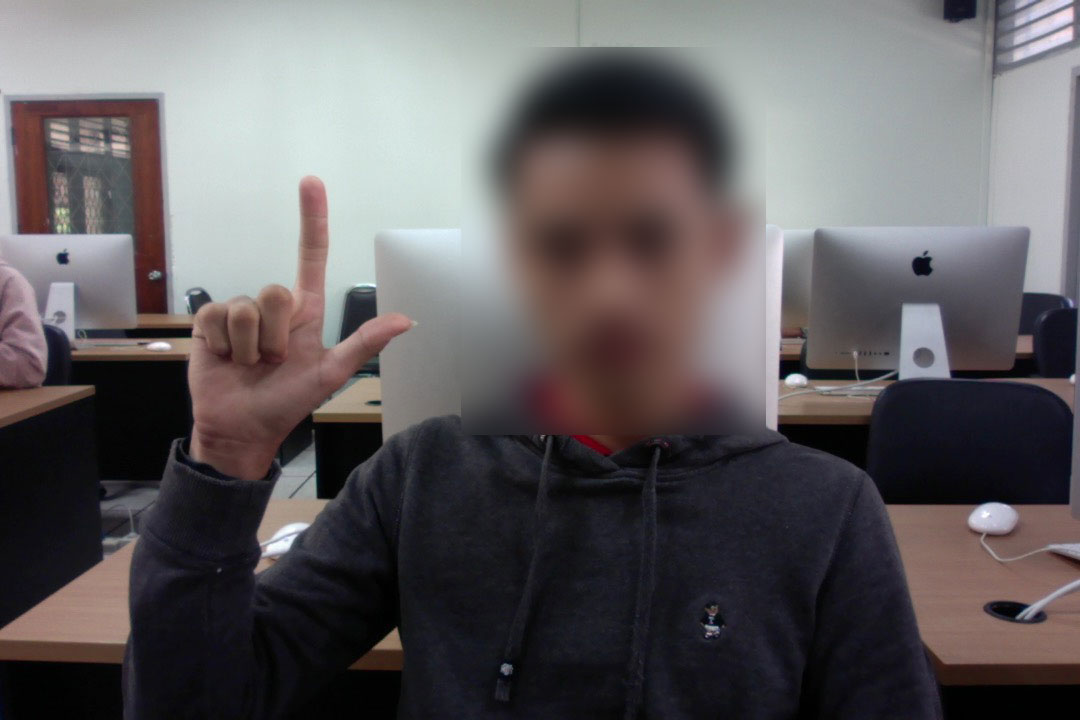lor: (166, 170, 425, 483)
